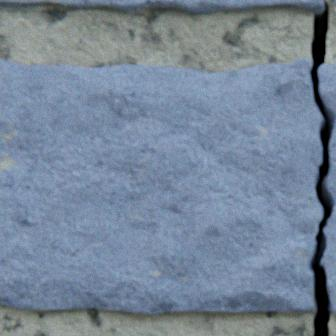brick: (0, 0, 323, 15)
broken_brick: (0, 59, 322, 313), (318, 65, 335, 313)
crack: (309, 0, 333, 335)
